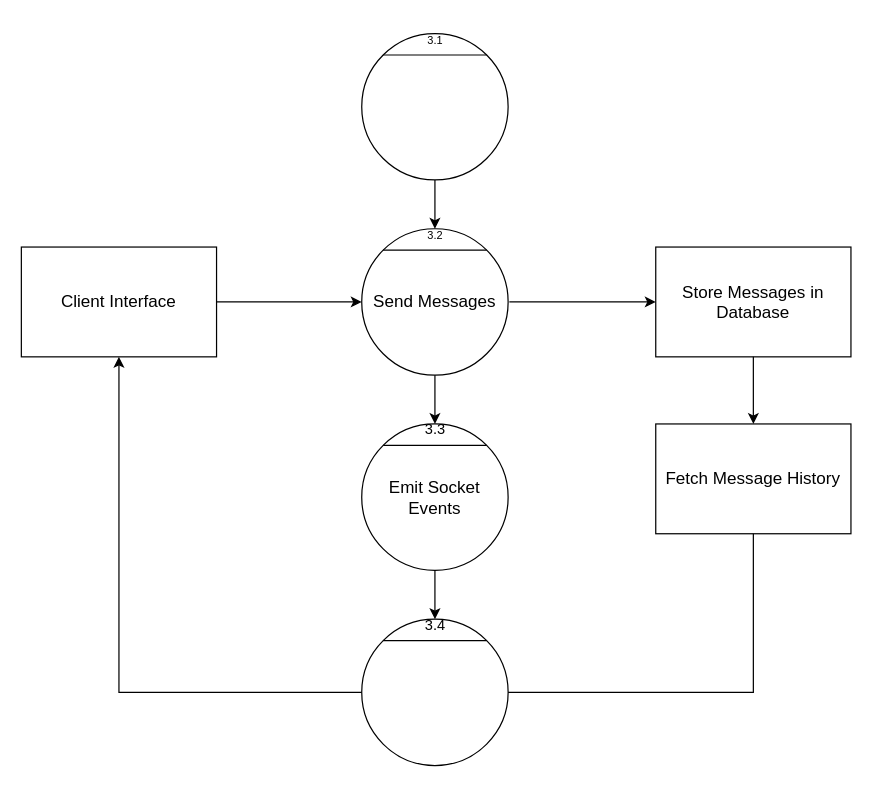
Some shapes in this 872 by 787 pixel diagram are drawn without their labels. Each missing label, with the box of its shape:
Create New Chat: (361, 32, 508, 180)
Receive Real-Time Updates: (361, 618, 508, 766)
